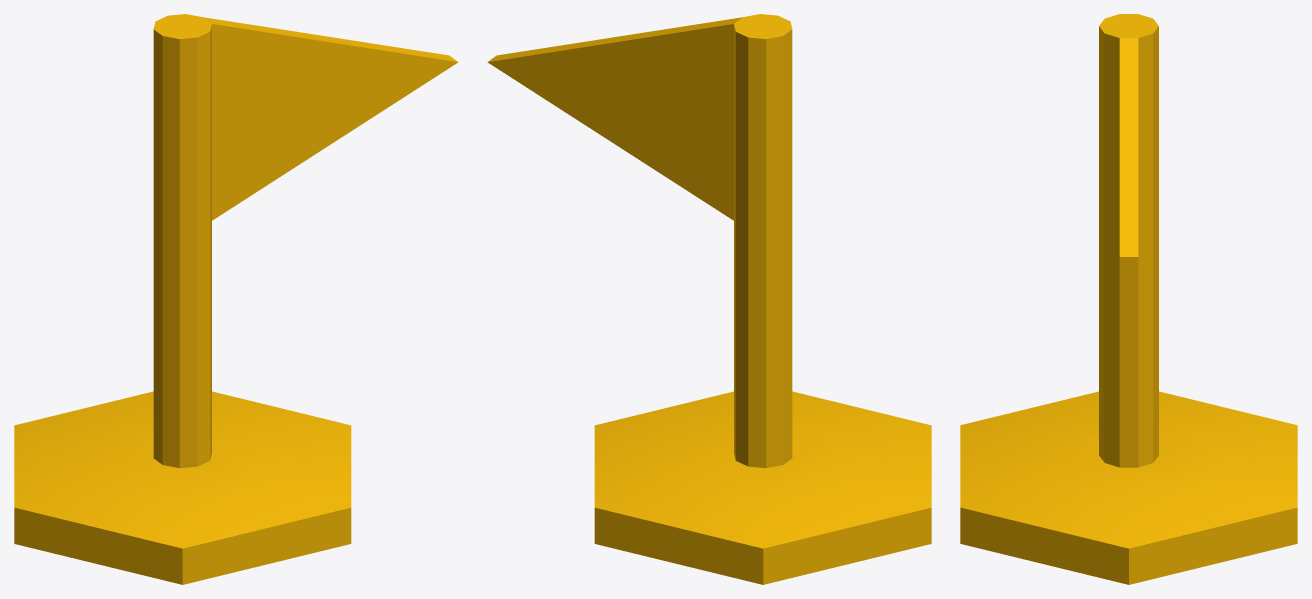
File: Boardgame_Token_Flag_Yellow_01.fbx
The picture shows the model from 3 angles, left to right: view 1: azimuth 30°, elevation 25°; view 2: azimuth 150°, elevation 25°; view 3: azimuth 270°, elevation 25°; orthographic projection.
Visible parts, largest first — view 1: Boardgame_Token_Flag_Yellow_01; view 2: Boardgame_Token_Flag_Yellow_01; view 3: Boardgame_Token_Flag_Yellow_01.
Boxes of the visible parts, x1,y1,x2,y2 form: Boardgame_Token_Flag_Yellow_01: (14,14,458,584); Boardgame_Token_Flag_Yellow_01: (487,14,931,584); Boardgame_Token_Flag_Yellow_01: (960,14,1297,584).
Bounding box in the file's own units: 49.18 × 50.9 × 32.63.
